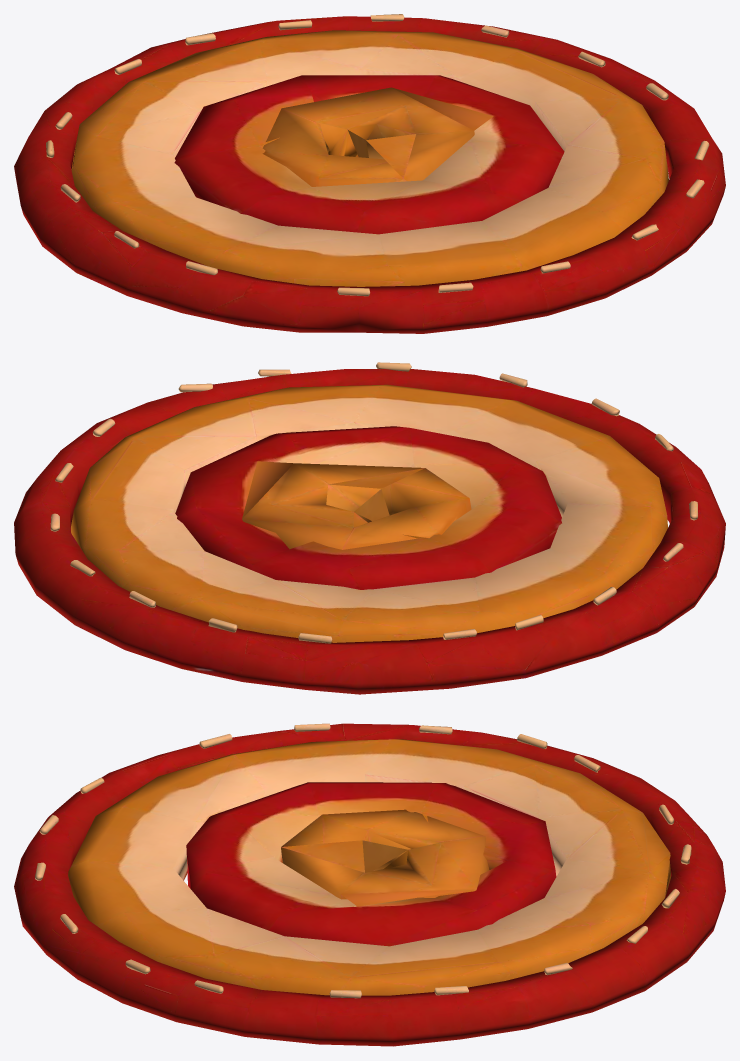
Rendered from tapis.glb.
The picture shows the model from 3 angles, top to bottom: view 1: azimuth 30°, elevation 25°; view 2: azimuth 150°, elevation 25°; view 3: azimuth 270°, elevation 25°; orthographic projection.
Visible parts, largest first — view 1: geometry_0; view 2: geometry_0; view 3: geometry_0.
Boxes of the visible parts, <box> form: geometry_0: <box>14,14,725,333</box>; geometry_0: <box>14,362,725,694</box>; geometry_0: <box>14,723,725,1046</box>.
Size of the model in its own units: 0.9536 by 0.0801 by 0.9497.
Materials: 1 (1 with a texture image).
